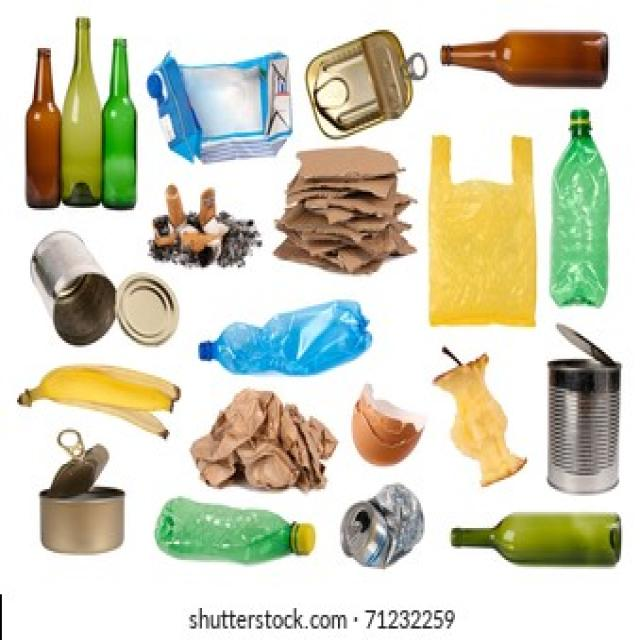cardboard: (277, 140, 406, 276)
glass: (36, 41, 141, 204), (476, 505, 621, 572)
metal: (540, 350, 625, 496), (312, 39, 419, 121), (44, 240, 130, 341), (51, 462, 123, 560), (346, 496, 414, 567)
paper: (208, 400, 326, 494)
plastic: (553, 135, 614, 304), (215, 309, 361, 368)
